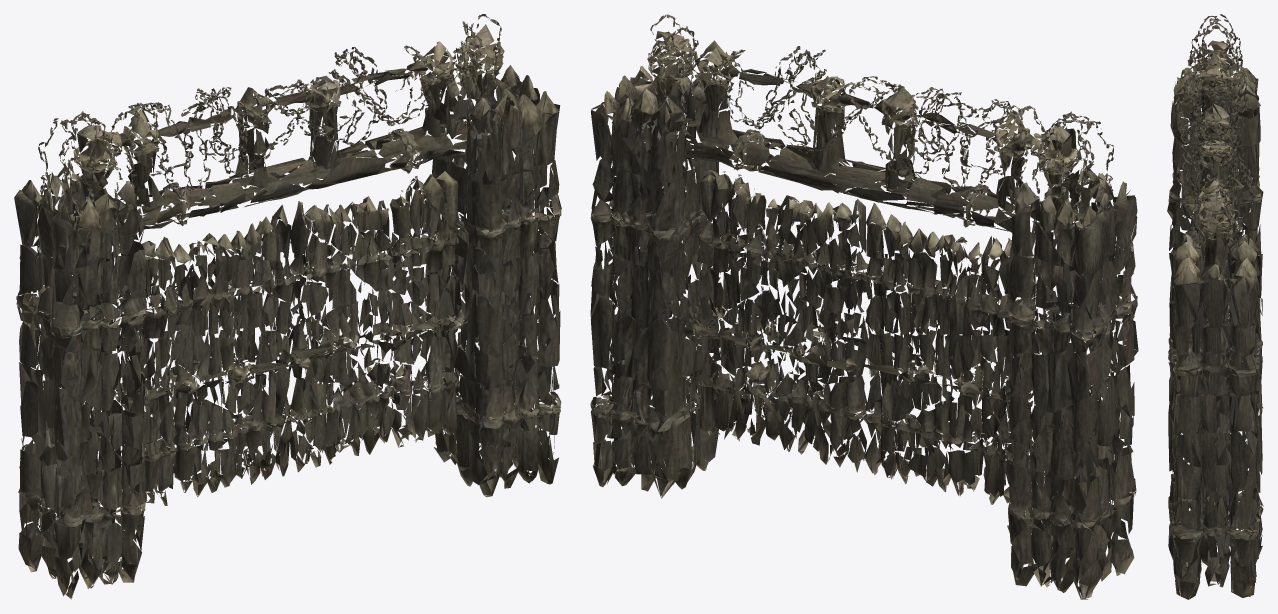
File: o25_ahsap_palisat_kapisi.glb
3 renders of one model, left to right at view 1: azimuth 30°, elevation 25°; view 2: azimuth 150°, elevation 25°; view 3: azimuth 270°, elevation 25°, orthographic. The views are drawn at different scales.
Visible parts, largest first — view 1: Mesh_0; view 2: Mesh_0; view 3: Mesh_0.
Part boxes in pixels (x1,y1,x2,y2): Mesh_0: (14, 14, 561, 599); Mesh_0: (590, 14, 1138, 599); Mesh_0: (1167, 14, 1263, 599).
Bounding box in the file's own units: 1.9 × 1.67 × 0.3746.
Materials: 1 (1 with a texture image).
